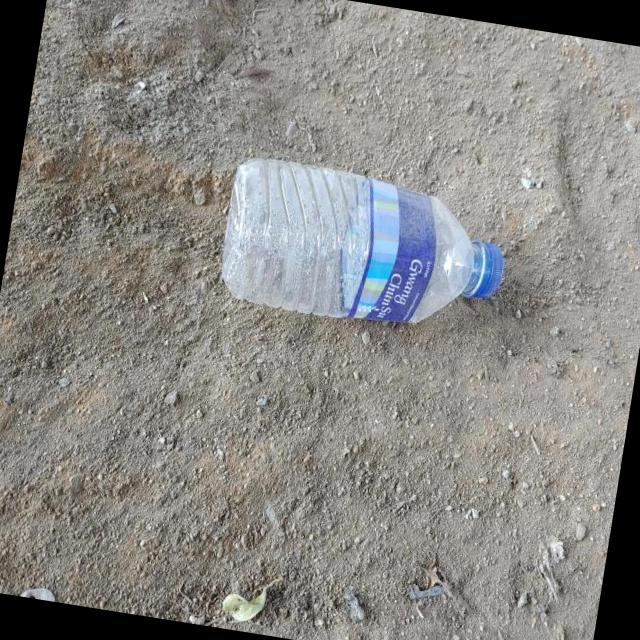plastic_bottle: (215, 153, 517, 344)
